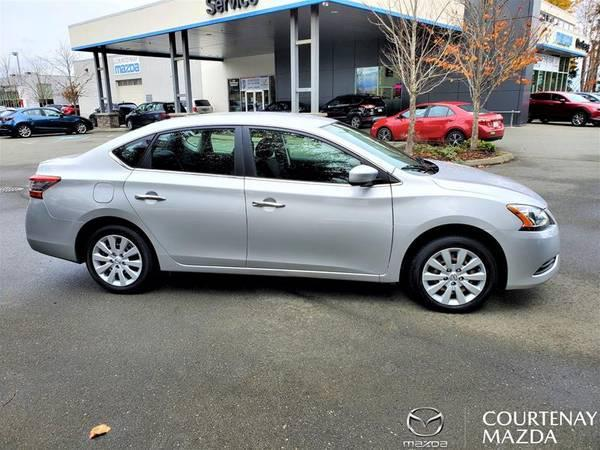Front_Bumper: (494, 224, 562, 292)
Front_Fender: (392, 169, 528, 283)
Front_Right_Door: (246, 176, 396, 280)
Front_Right_Window: (243, 124, 392, 187)
Hood: (419, 156, 545, 207)
Rear_Bumper: (22, 198, 82, 263)
Rear_Fender: (34, 132, 156, 222)
Rear_Left_Door: (134, 123, 243, 176)
Rear_Right_Door: (76, 111, 401, 177), (124, 171, 248, 275)
Right_Headlight: (510, 202, 559, 233)
Wheel: (410, 231, 501, 309), (81, 224, 150, 295)
